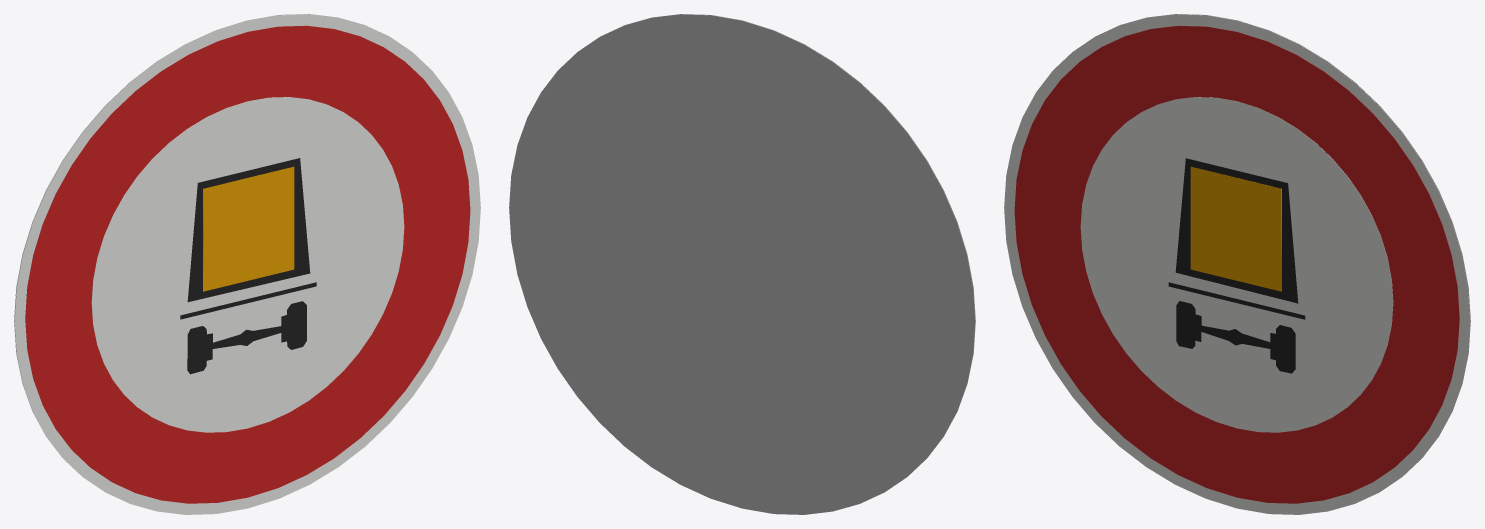
3 renders of one model, left to right at view 1: azimuth 30°, elevation 25°; view 2: azimuth 150°, elevation 25°; view 3: azimuth 330°, elevation 25°, orthographic.
Parts seen in each view (by area): view 1: B18c_p01, B18c_p02, B18c_p00, B18c_p07, B18c_p06, B18c_p03, B18c_dos, B18c_p04; view 2: B18c_dos, B18c_p00; view 3: B18c_p01, B18c_p02, B18c_p00, B18c_p07, B18c_p06, B18c_p03, B18c_dos, B18c_p04.
Part boxes in pixels (left/top/right/bottom): B18c_p01: left=25, top=25, right=470, bottom=503; B18c_p02: left=91, top=97, right=404, bottom=432; B18c_p00: left=14, top=14, right=480, bottom=514; B18c_p07: left=203, top=166, right=294, bottom=291; B18c_p06: left=187, top=158, right=310, bottom=301; B18c_p03: left=187, top=301, right=306, bottom=374; B18c_dos: left=14, top=14, right=385, bottom=473; B18c_p04: left=180, top=282, right=316, bottom=319; B18c_dos: left=509, top=14, right=975, bottom=514; B18c_p00: left=604, top=14, right=975, bottom=473; B18c_p01: left=1014, top=25, right=1459, bottom=503; B18c_p02: left=1080, top=97, right=1393, bottom=432; B18c_p00: left=1004, top=14, right=1470, bottom=514; B18c_p07: left=1190, top=166, right=1281, bottom=291; B18c_p06: left=1175, top=158, right=1298, bottom=303; B18c_p03: left=1176, top=301, right=1295, bottom=373; B18c_dos: left=1099, top=14, right=1470, bottom=473; B18c_p04: left=1168, top=282, right=1305, bottom=319.
Size of the model in its own units: 0.85 by 0.8498 by 0.0047.
